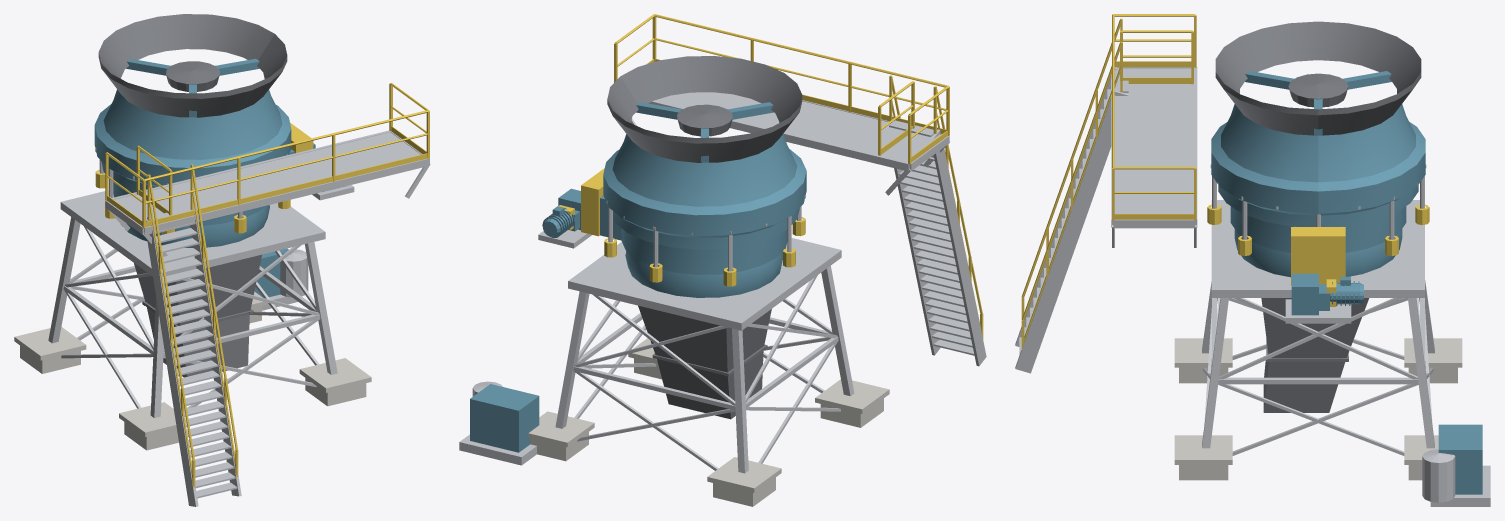
File: ore-processing-and-haulage-plant-cone-crusher-38306e2f.glb
3 renders of one model, left to right at view 1: azimuth 30°, elevation 25°; view 2: azimuth 150°, elevation 25°; view 3: azimuth 270°, elevation 25°, orthographic. The views are drawn at different scales.
Parts seen in each view (by area): view 1: cone-crusher; view 2: cone-crusher; view 3: cone-crusher.
Boxes of the visible parts, x1,y1,x2,y2 form: cone-crusher: (14, 14, 430, 506); cone-crusher: (459, 14, 986, 506); cone-crusher: (1015, 14, 1490, 506).
Size of the model in its own units: 7.24 by 7.18 by 8.69.
